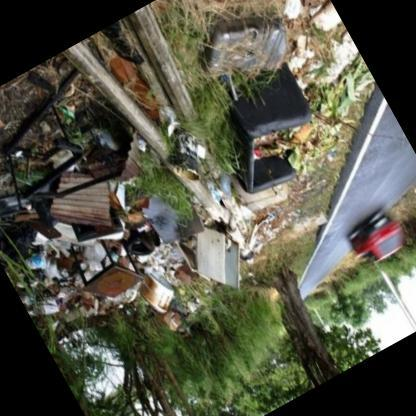Garbage: (299, 0, 348, 47), (254, 196, 302, 236), (18, 246, 61, 290), (142, 237, 182, 279), (48, 266, 79, 295), (320, 142, 346, 166), (34, 294, 60, 317)
